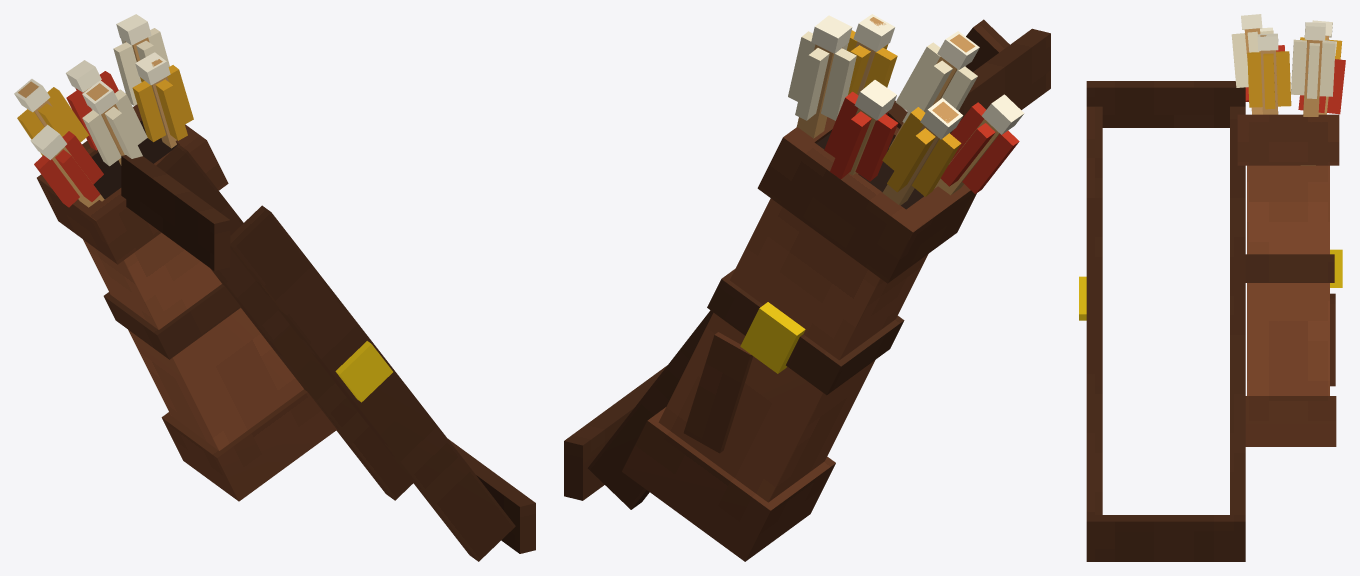
The model's file is acc_quiver.glb.
The picture shows the model from 3 angles, left to right: view 1: azimuth 30°, elevation 25°; view 2: azimuth 150°, elevation 25°; view 3: azimuth 270°, elevation 25°; orthographic projection. The views are drawn at different scales.
Visible parts, largest first — view 1: acc_quiver; view 2: acc_quiver; view 3: acc_quiver.
Boxes of the visible parts, <box> form: acc_quiver: <box>14,14,535,561</box>; acc_quiver: <box>564,14,1050,561</box>; acc_quiver: <box>1079,14,1345,561</box>.
Bounding box in the file's own units: 0.6166 × 0.7405 × 0.4193.
Materials: 10 (3 with a texture image).
